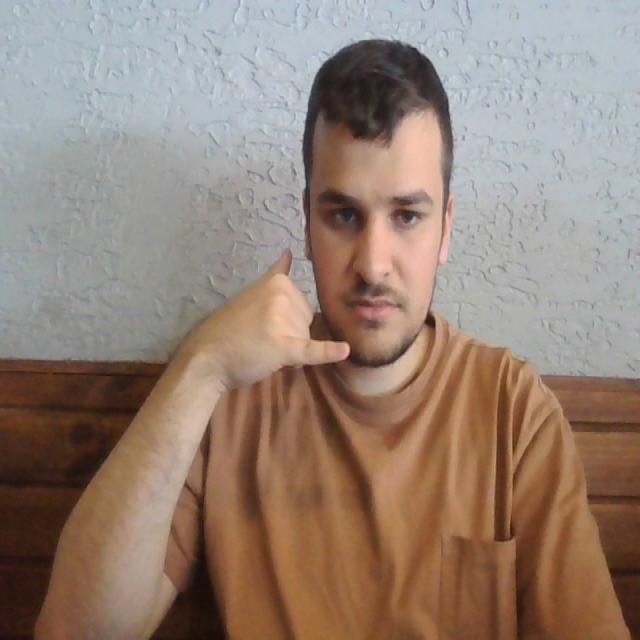Telefon: (237, 214, 358, 397)
